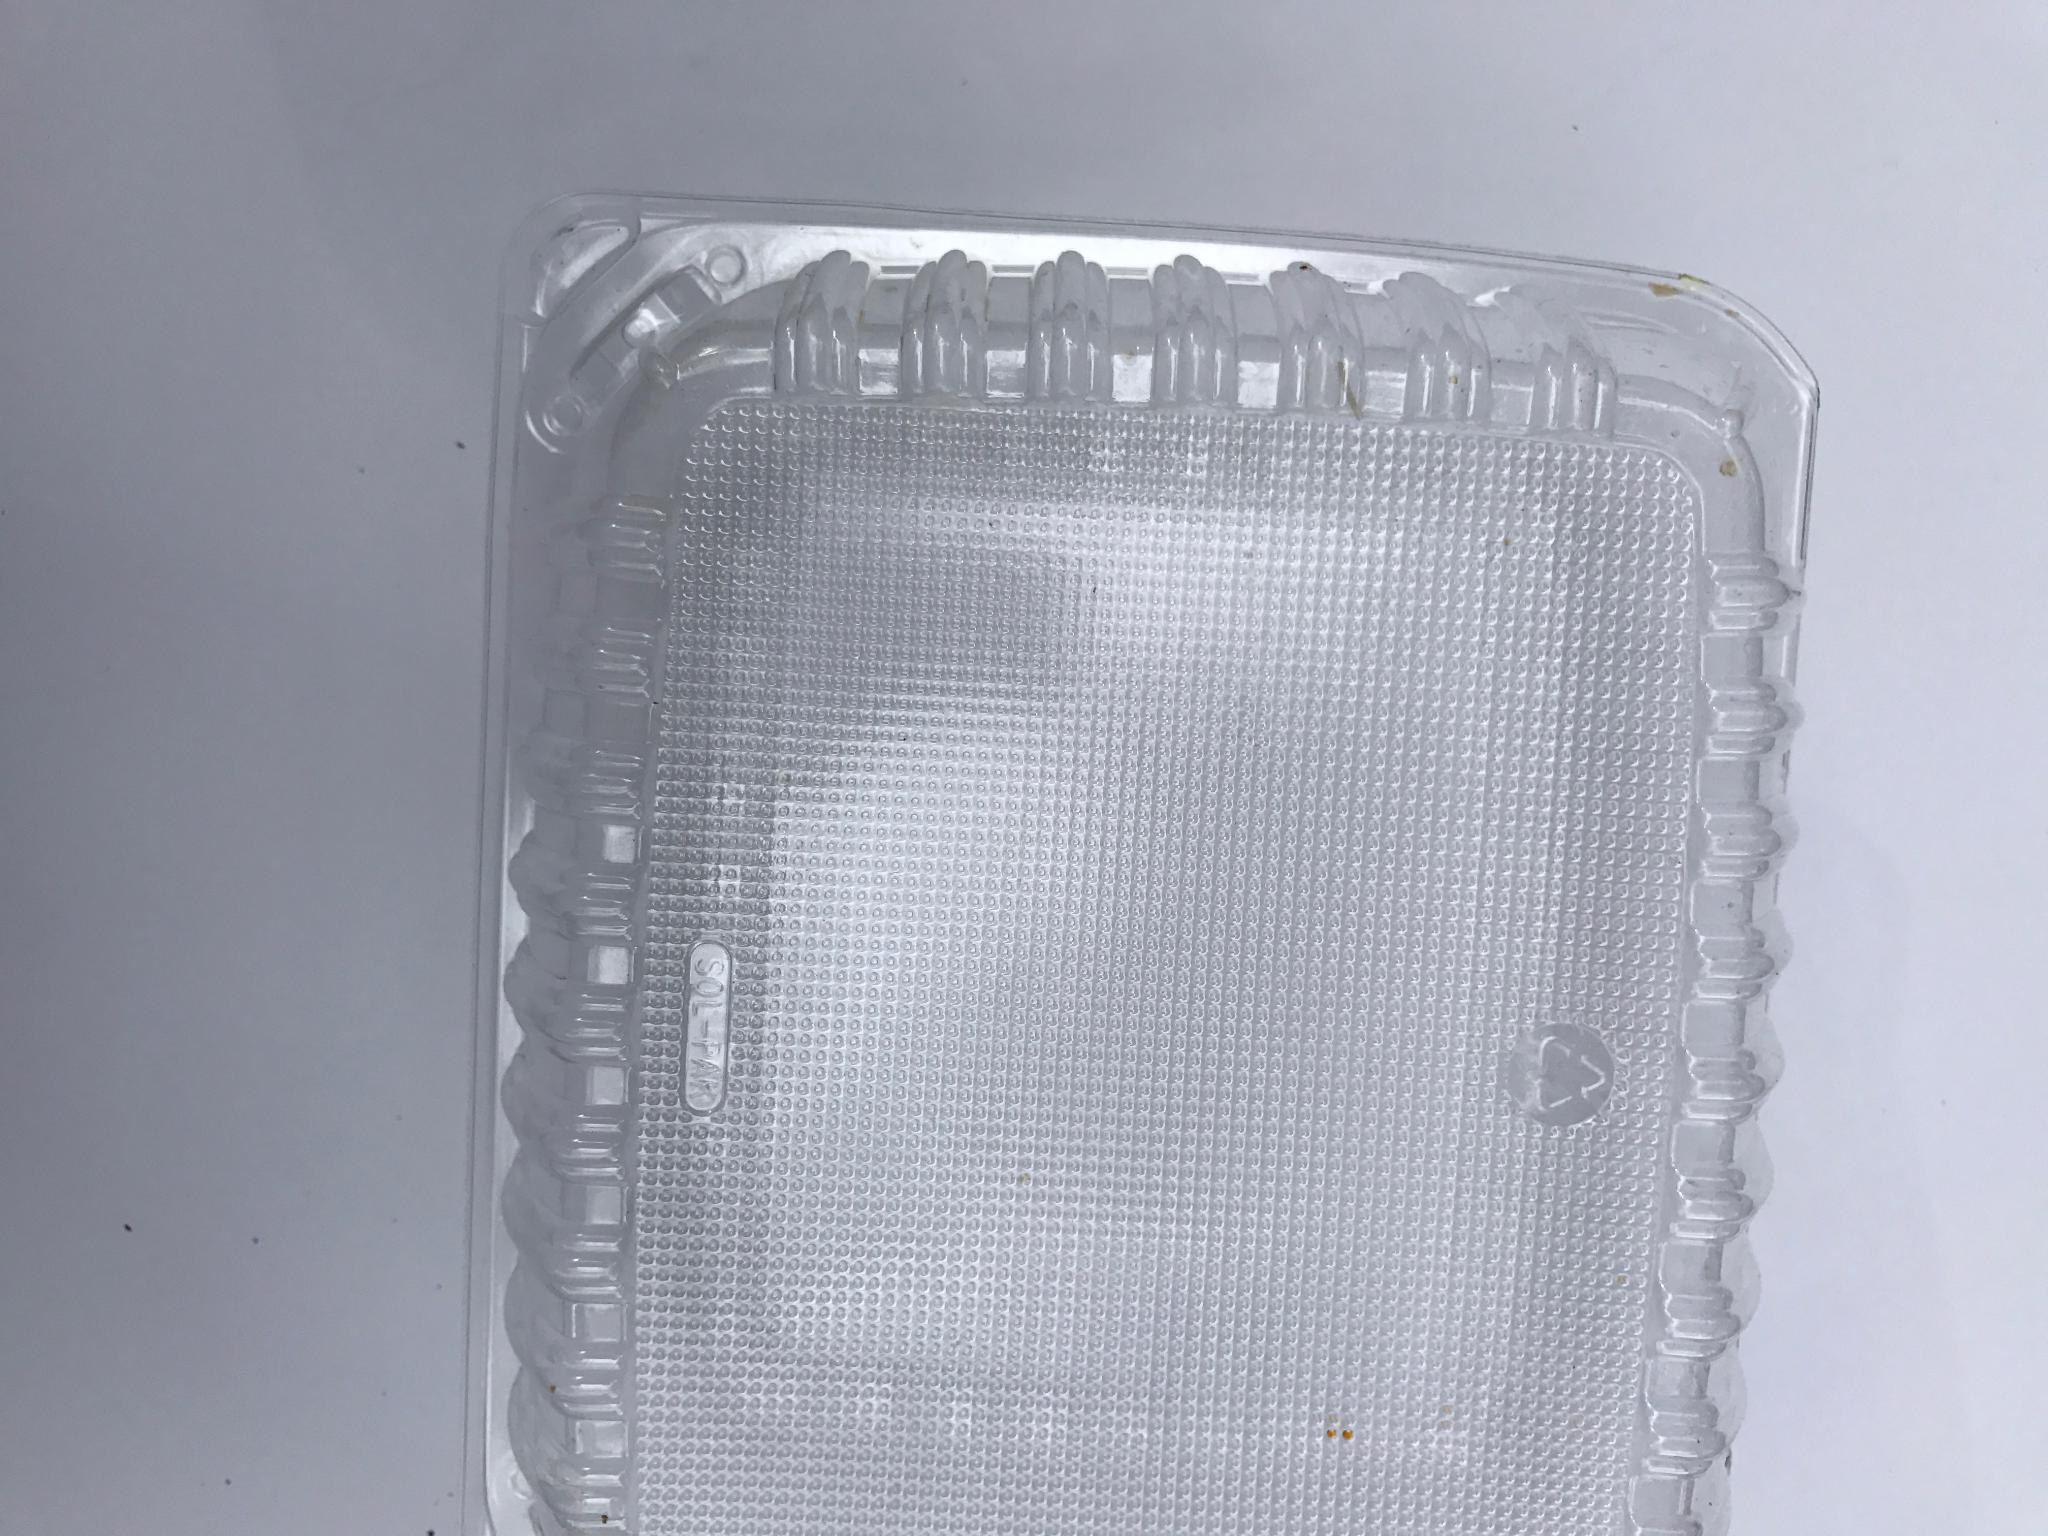Plastic: (434, 155, 1861, 1534)
